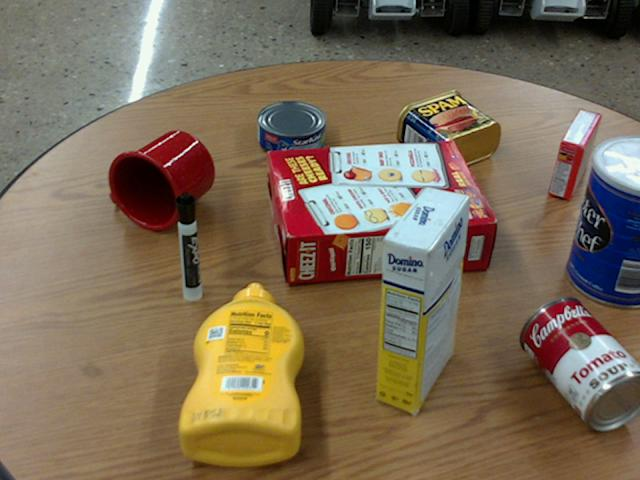cracker_box: (266, 140, 493, 284)
gelatin_box: (549, 110, 600, 199)
large_marker: (175, 191, 200, 300)
master_chef_can: (566, 136, 639, 307)
mug: (107, 129, 213, 230)
mustard_bottle: (179, 282, 302, 464)
potted_meat_can: (396, 90, 500, 169)
sugar_box: (375, 187, 469, 412)
tomato_soup_can: (520, 295, 639, 427)
tuna_fish_can: (257, 100, 325, 156)
